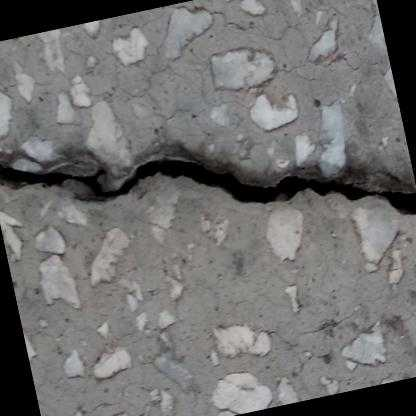crack: (0, 159, 416, 214)
